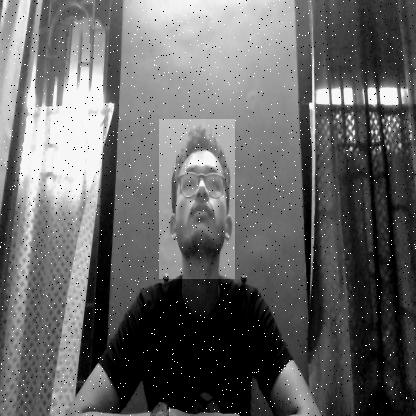Distracted: (159, 119, 235, 279)
